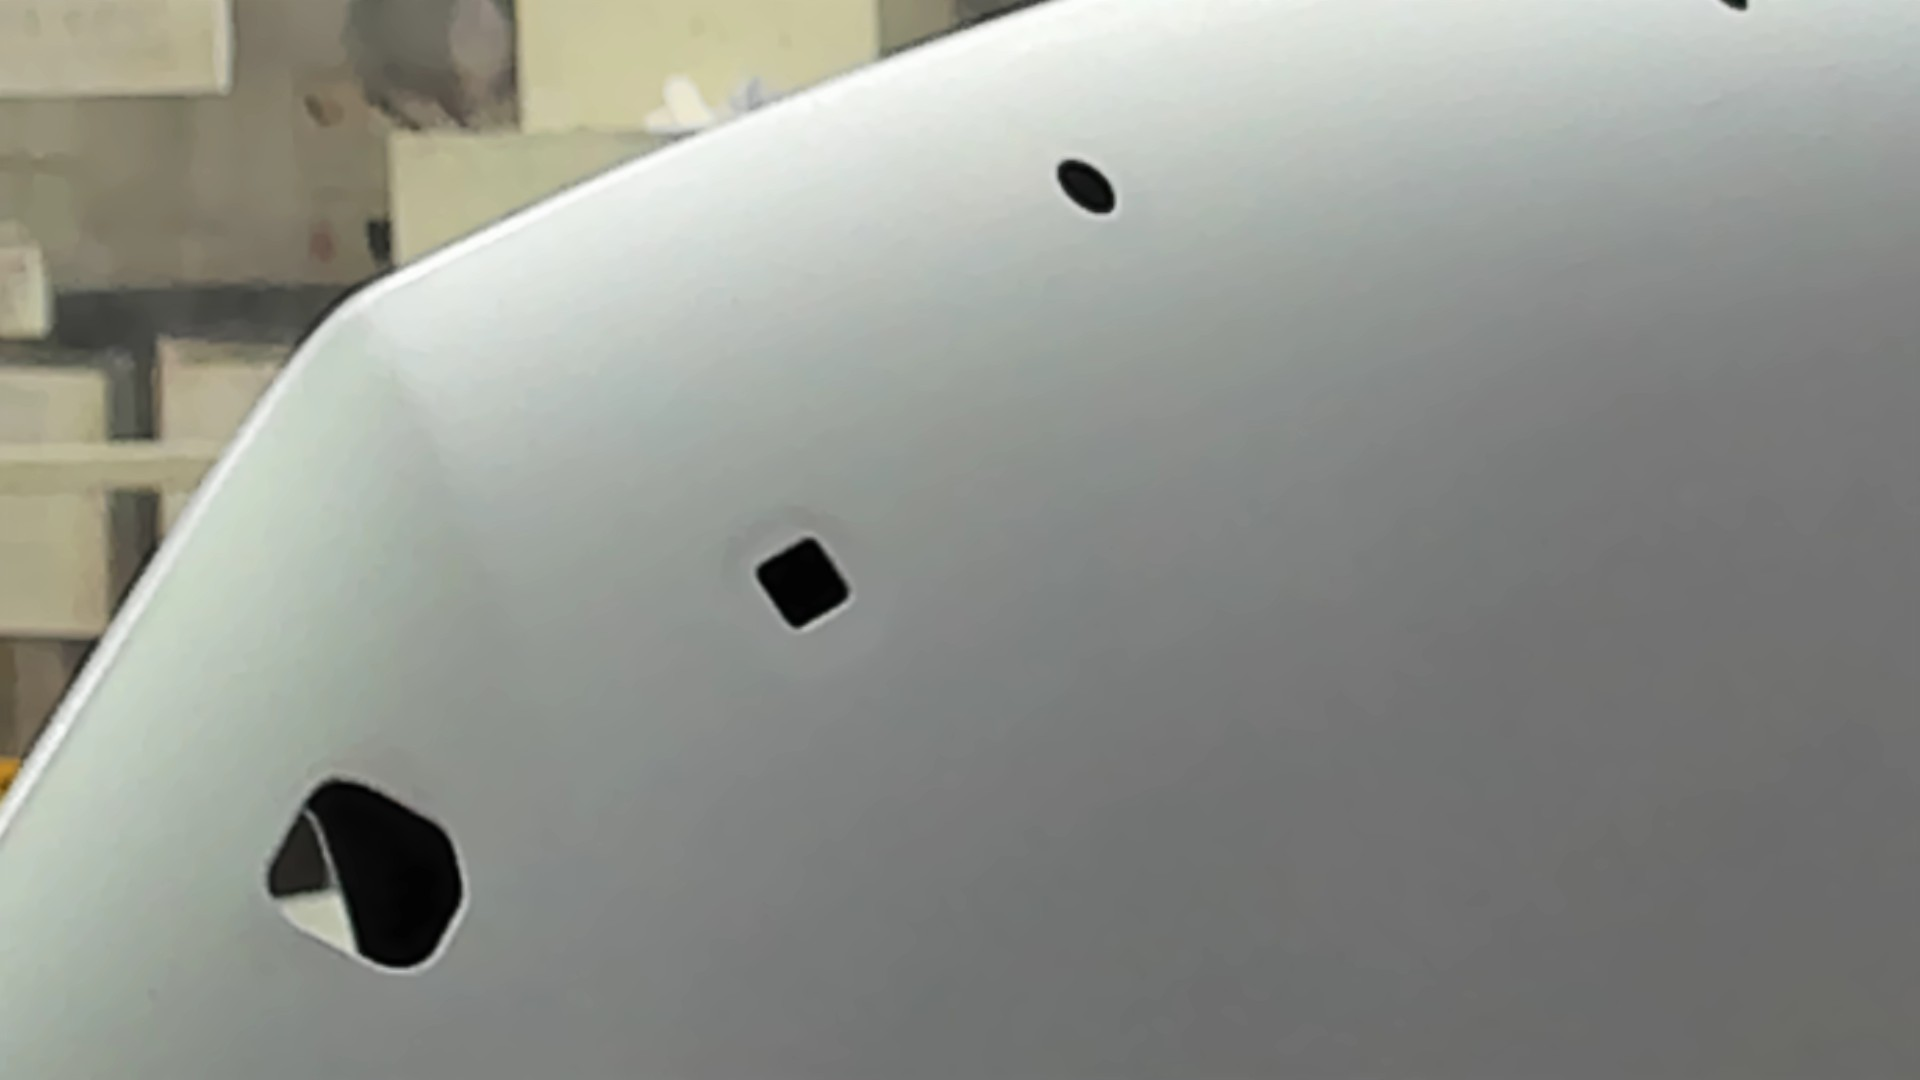chico: (1055, 158, 1120, 216), (1720, 1, 1753, 11)
grande: (258, 775, 469, 978)
mediano: (750, 533, 853, 632)
